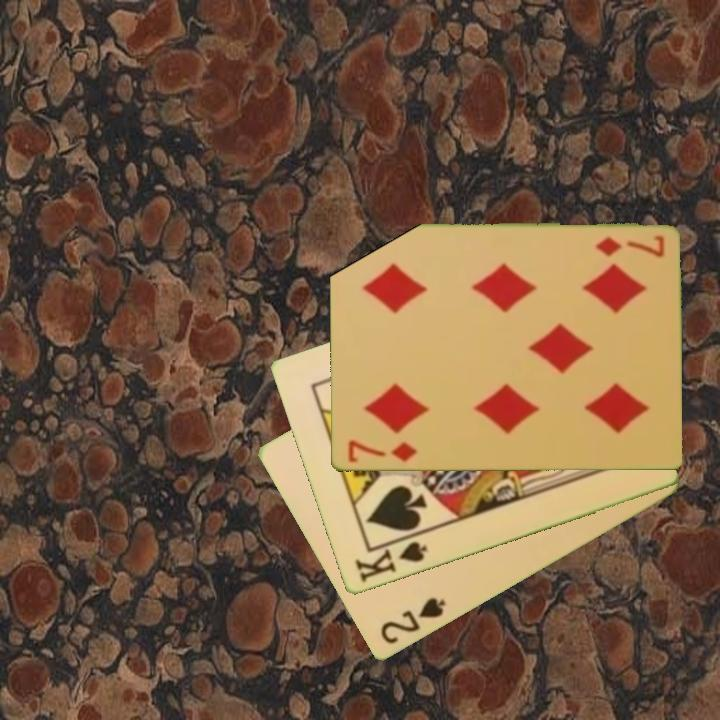2s: (376, 594, 449, 648)
7d: (343, 437, 419, 466), (591, 232, 666, 260)
Ks: (351, 538, 430, 587)
